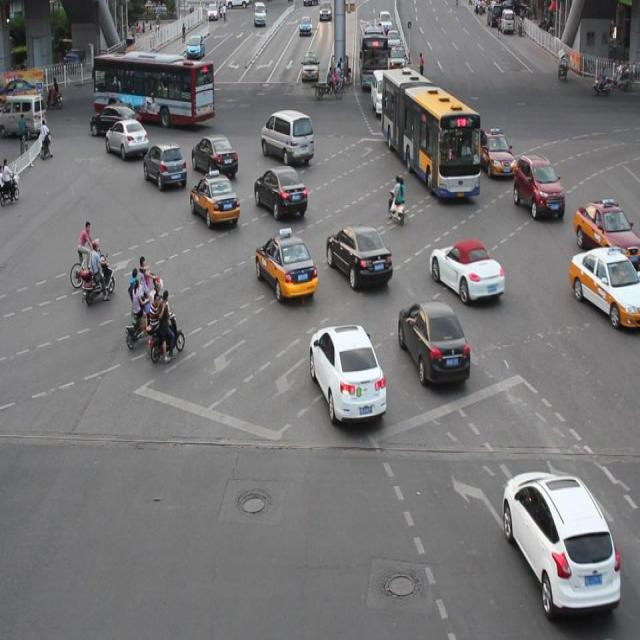car: (502, 467, 618, 613), (307, 322, 387, 421), (398, 298, 470, 385), (567, 245, 640, 329), (429, 240, 503, 302), (326, 222, 392, 288), (255, 231, 316, 298), (573, 199, 640, 260), (513, 152, 562, 220), (253, 163, 307, 219), (190, 171, 239, 226), (142, 142, 187, 189), (191, 134, 238, 178), (105, 117, 149, 158), (90, 102, 140, 137), (478, 129, 514, 177)
truck: (260, 108, 314, 163)
van: (382, 70, 478, 197), (92, 53, 214, 122)
